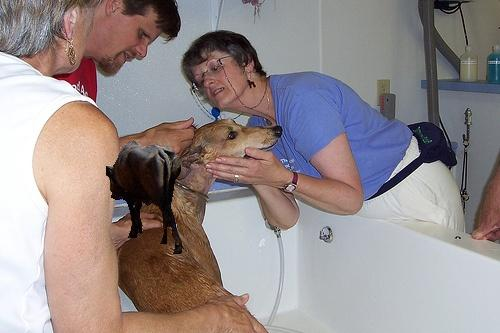tampered: (107, 140, 182, 254)
